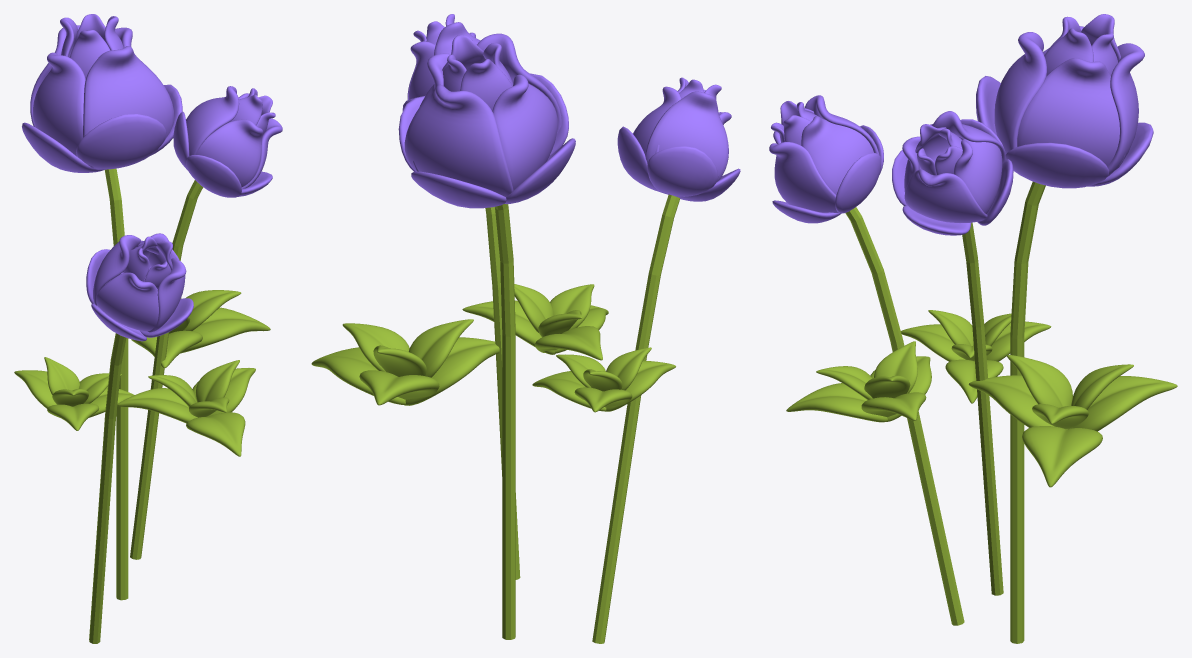
File: flortulipa.fbx
3 views of the same model, side by side, from view 1: azimuth 30°, elevation 25°; view 2: azimuth 150°, elevation 25°; view 3: azimuth 270°, elevation 25° (orthographic). The views are drawn at different scales.
Parts seen in each view (by area): view 1: Plane.011, Plane.029, Plane.039, Plane.001, Plane, Plane.002; view 2: Plane.011, Plane.029, Plane.002, Plane.001, Plane, Plane.039; view 3: Plane.011, Plane.039, Plane.029, Plane.002, Plane.001, Plane.
Boxes of the visible parts, left/top/right/bottom form: Plane.011: left=22, top=14, right=182, bottom=600; Plane.029: left=86, top=233, right=193, bottom=643; Plane.039: left=130, top=86, right=282, bottom=559; Plane.001: left=117, top=360, right=255, bottom=456; Plane: left=14, top=357, right=134, bottom=430; Plane.002: left=131, top=290, right=270, bottom=368; Plane.011: left=398, top=33, right=575, bottom=639; Plane.029: left=592, top=77, right=740, bottom=643; Plane.002: left=311, top=319, right=499, bottom=405; Plane.001: left=462, top=284, right=608, bottom=360; Plane: left=532, top=347, right=675, bottom=412; Plane.039: left=402, top=14, right=520, bottom=579; Plane.011: left=976, top=14, right=1153, bottom=643; Plane.039: left=892, top=111, right=1013, bottom=595; Plane.029: left=769, top=95, right=964, bottom=625; Plane.002: left=968, top=355, right=1177, bottom=487; Plane.001: left=786, top=341, right=931, bottom=422; Plane: left=901, top=310, right=1051, bottom=403.
Bounding box in the file's own units: 81.66 × 160 × 93.46.
